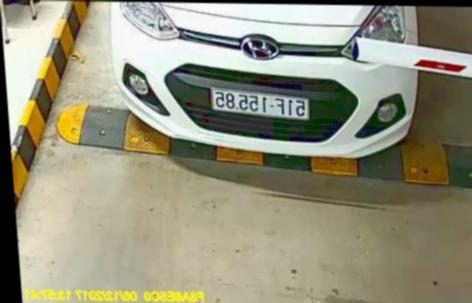License_Plate: (205, 86, 315, 124)
